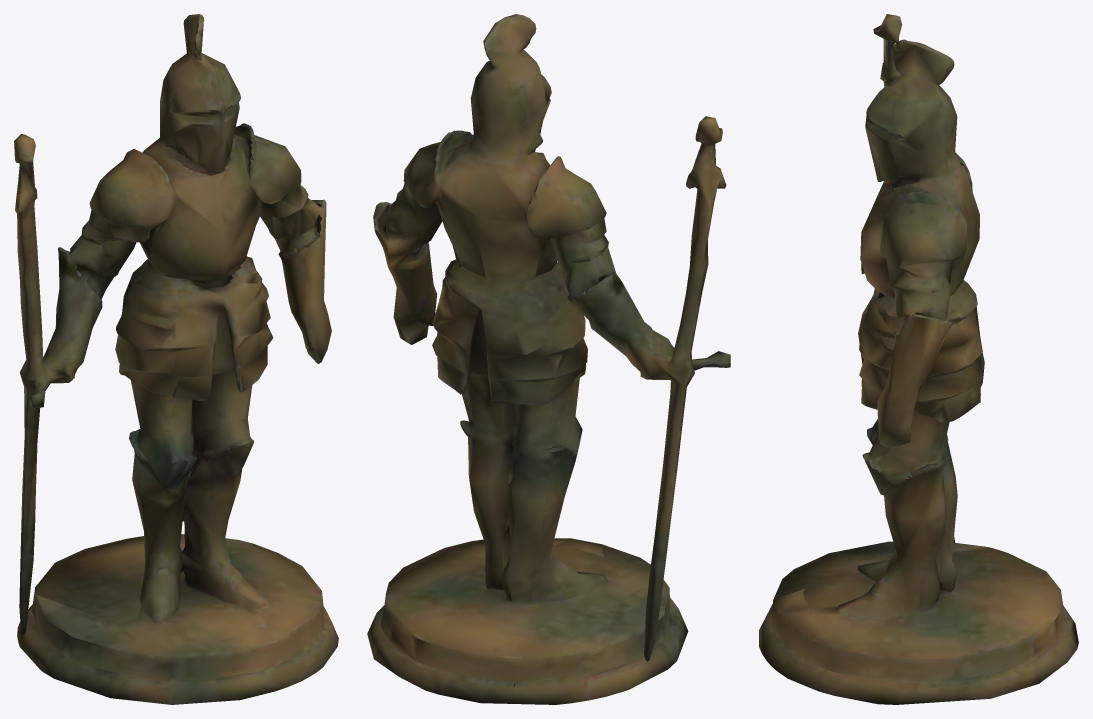
The model's file is chipped-bronze-suit-of-armour-v002.glb.
3 views of the same model, side by side, from view 1: azimuth 30°, elevation 25°; view 2: azimuth 150°, elevation 25°; view 3: azimuth 270°, elevation 25° (orthographic).
Parts seen in each view (by area): view 1: chipped-bronze-suit-of-armour; view 2: chipped-bronze-suit-of-armour; view 3: chipped-bronze-suit-of-armour.
Part boxes in pixels (x1,y1,x2,y2): chipped-bronze-suit-of-armour: (14, 14, 338, 704); chipped-bronze-suit-of-armour: (367, 14, 730, 704); chipped-bronze-suit-of-armour: (759, 14, 1078, 704).
Size of the model in its own units: 1.01 by 1.82 by 0.8653.
Materials: 1 (1 with a texture image).
